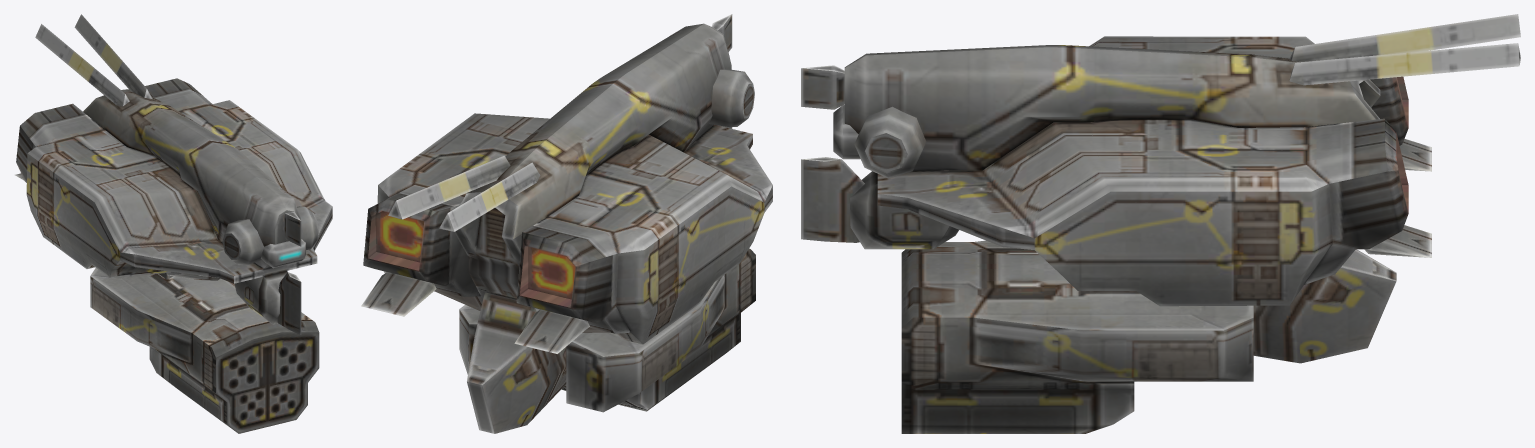
File: p1_sc_miss_01_t3.glb
The picture shows the model from 3 angles, left to right: view 1: azimuth 30°, elevation 25°; view 2: azimuth 150°, elevation 25°; view 3: azimuth 270°, elevation 25°; orthographic projection. The views are drawn at different scales.
Parts seen in each view (by area): view 1: p1_missile_corvette_01_LOD0; view 2: p1_missile_corvette_01_LOD0; view 3: p1_missile_corvette_01_LOD0.
Part boxes in pixels (bbox=[...]): p1_missile_corvette_01_LOD0: bbox=[15, 14, 332, 433]; p1_missile_corvette_01_LOD0: bbox=[361, 14, 772, 433]; p1_missile_corvette_01_LOD0: bbox=[801, 14, 1520, 433].
Size of what is drawn, in the model's own units: 0.2688 by 0.3208 by 0.5446.
1 material, 1 textured.
